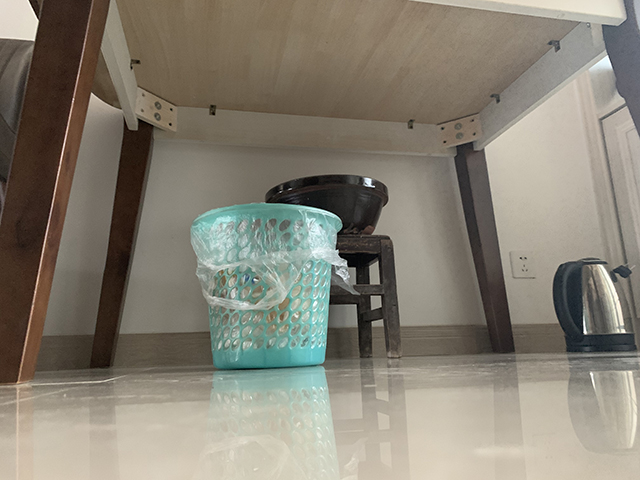stool: (328, 232, 404, 360)
table: (1, 1, 639, 384)
trashcan: (189, 201, 344, 370)
